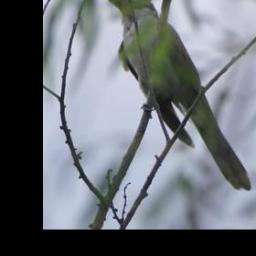Cuckoo: (93, 0, 256, 194)
